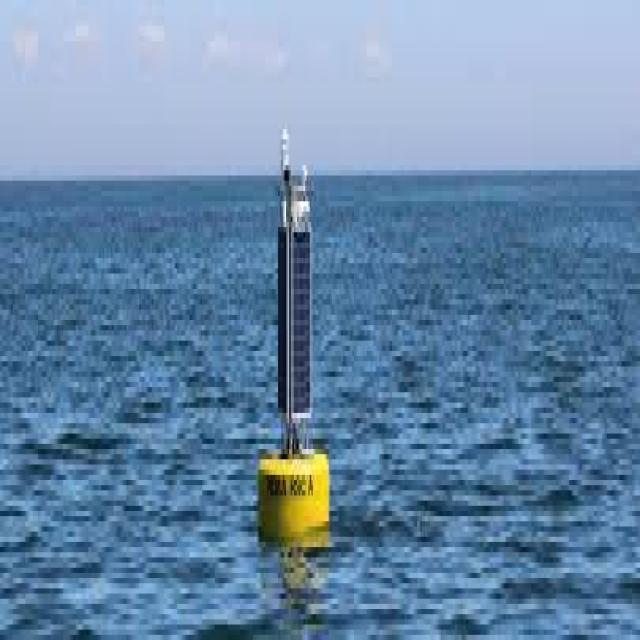buoy: (243, 95, 335, 579)
